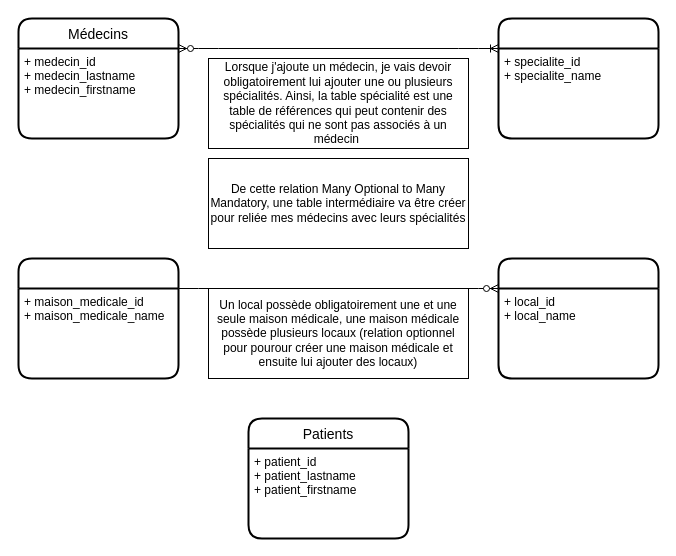
The diagram is 676 pixels wide and 556 high, and some of its shapes have lost their labels. The shapes that lost their labels are listed below. From the top down, each one's box as (x1, y1, x2, y2) in pixels, then its label:
(497, 17, 659, 139): Spécialités
(17, 257, 179, 379): Maisons Médicales
(497, 257, 659, 379): Locaux
